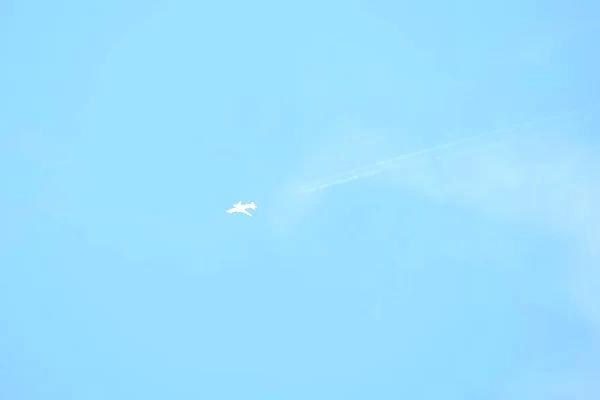Plane: (208, 194, 271, 224)
